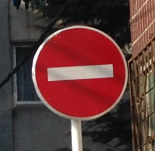no_entry: (31, 26, 128, 120)
